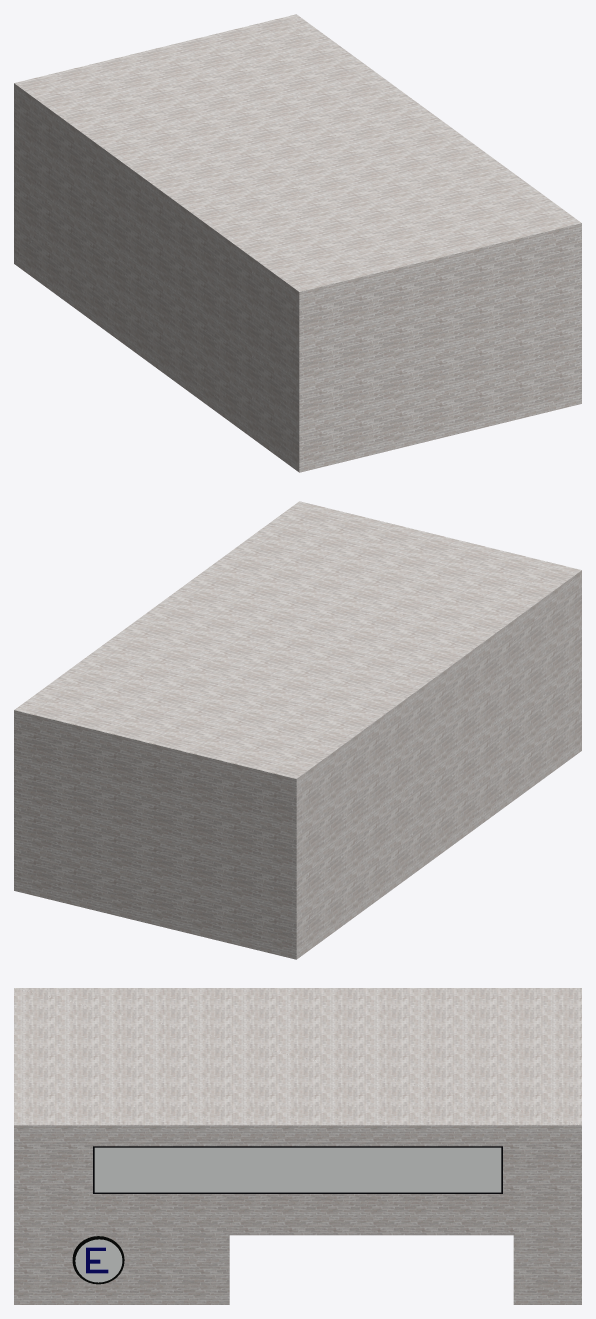
File: Estacionamiento basico.fbx
3 renders of one model, top to bottom at view 1: azimuth 30°, elevation 25°; view 2: azimuth 150°, elevation 25°; view 3: azimuth 270°, elevation 25°, orthographic.
Parts seen in each view (by area): view 1: building_028; view 2: building_028; view 3: building_028.
Part boxes in pixels (box(x1,y1,x2,y2)): building_028: box(14, 14, 581, 472); building_028: box(14, 501, 581, 959); building_028: box(14, 988, 581, 1304).
Bounding box in the file's own units: 2018 × 1222 × 3500.
Materials: 2 (2 with a texture image).
